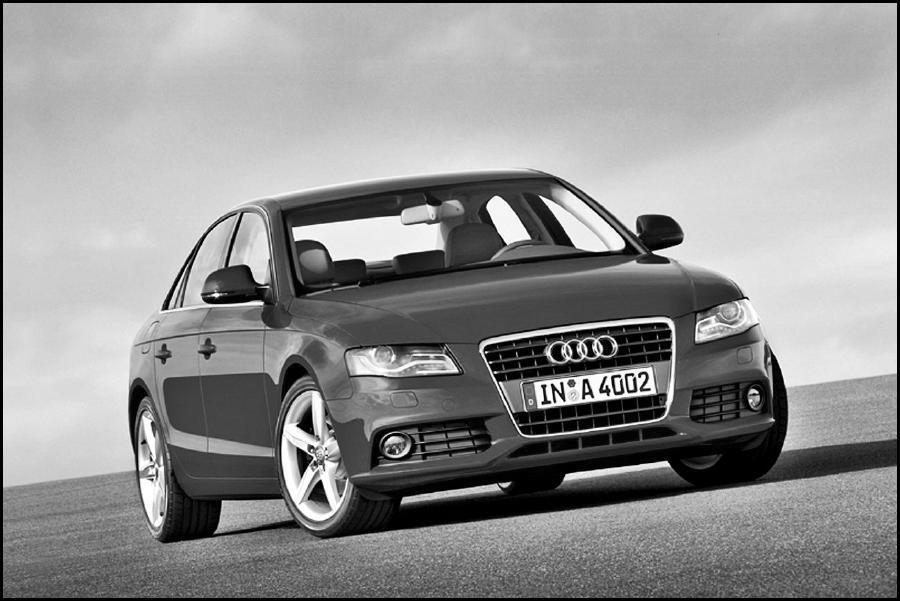car: (129, 165, 793, 545)
